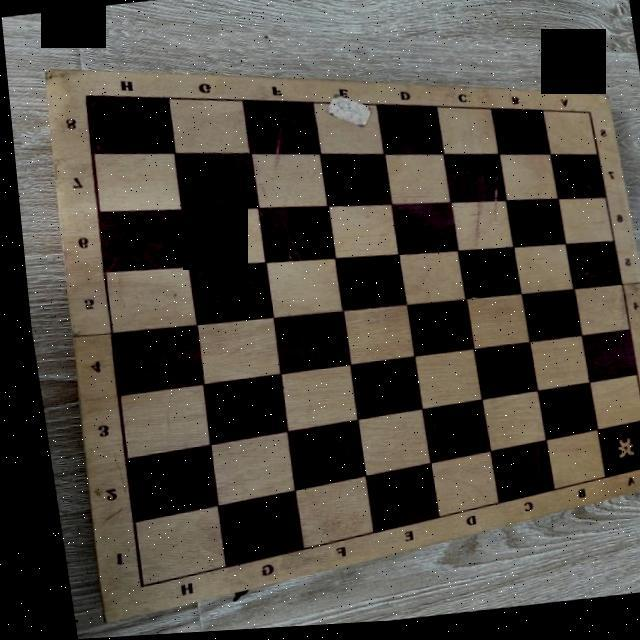chess-table-corners: (114, 574, 149, 600), (74, 88, 94, 104), (578, 111, 594, 126), (634, 466, 640, 480)
